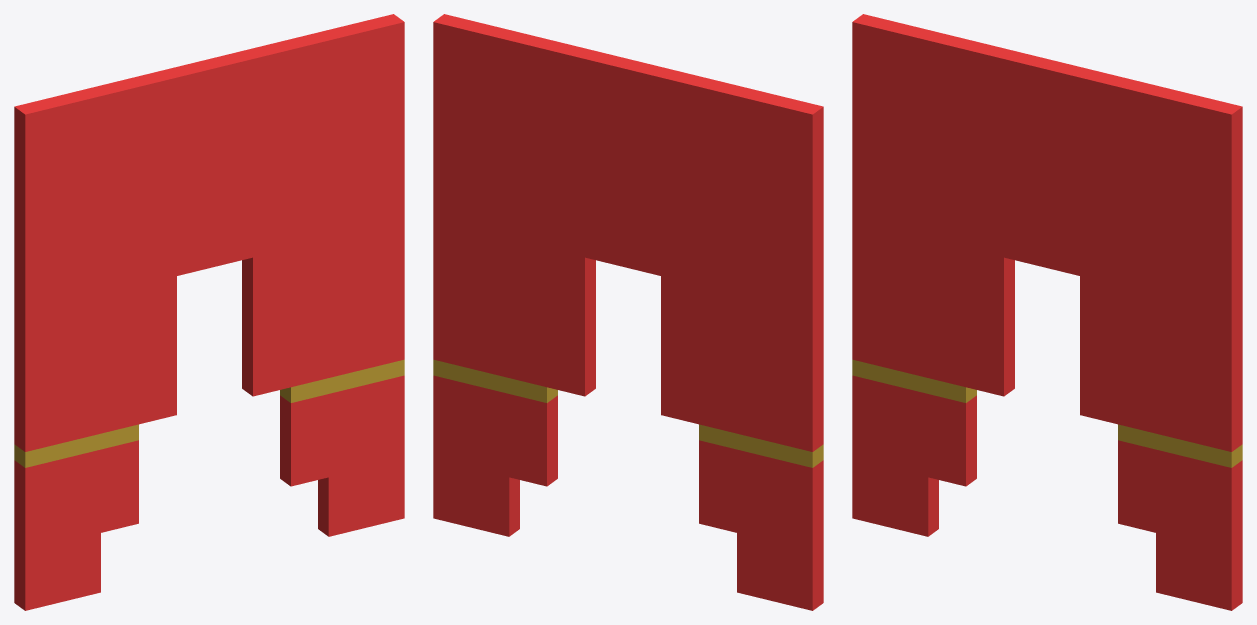
The model's file is Curtain.fbx.
3 renders of one model, left to right at view 1: azimuth 30°, elevation 25°; view 2: azimuth 150°, elevation 25°; view 3: azimuth 330°, elevation 25°, orthographic.
Parts seen in each view (by area): view 1: block (×59); view 2: block (×59); view 3: block (×59).
Boxes of the visible parts, x1,y1,x2,y2 form: block (×59): [14, 14, 404, 610]; block (×59): [433, 14, 823, 610]; block (×59): [852, 14, 1242, 610].
Size of the model in its own units: 18 by 22.5 by 0.9.
